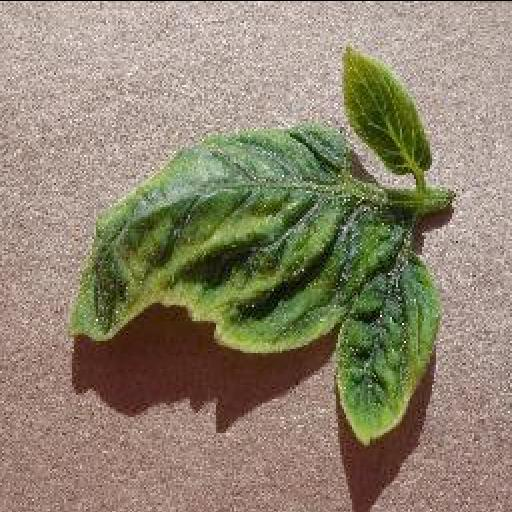disease_tomato: (66, 120, 398, 350), (336, 258, 438, 438), (335, 42, 433, 172)
